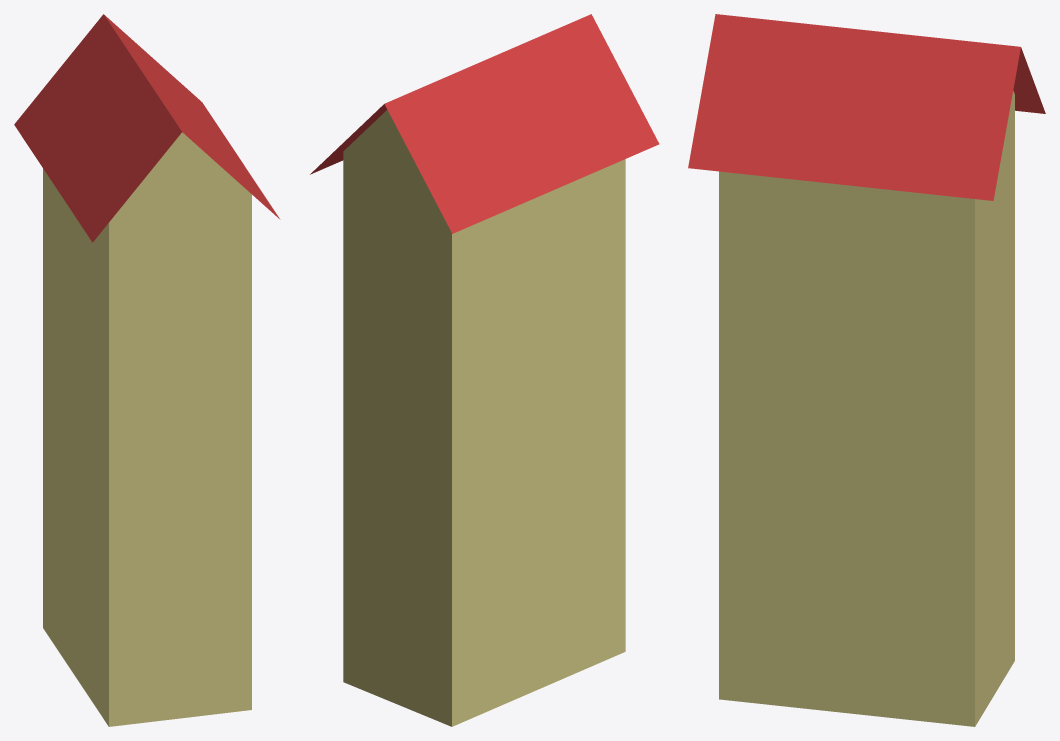
3 renders of one model, left to right at view 1: azimuth 30°, elevation 25°; view 2: azimuth 150°, elevation 25°; view 3: azimuth 270°, elevation 25°, orthographic. The views are drawn at different scales.
Parts seen in each view (by area): view 1: group_5, group_3, group_4; view 2: group_5, group_3, group_4; view 3: group_5, group_3, group_4.
Boxes of the visible parts, x1,y1,x2,y2 form: group_5: [43, 132, 251, 726]; group_3: [43, 14, 279, 218]; group_4: [14, 15, 279, 242]; group_5: [343, 109, 625, 726]; group_3: [371, 21, 625, 215]; group_4: [310, 14, 659, 233]; group_5: [719, 91, 1014, 726]; group_3: [688, 14, 1045, 200]; group_4: [688, 14, 1020, 167].
Size of the model in its own units: 5.55 by 7.01 by 13.99.
